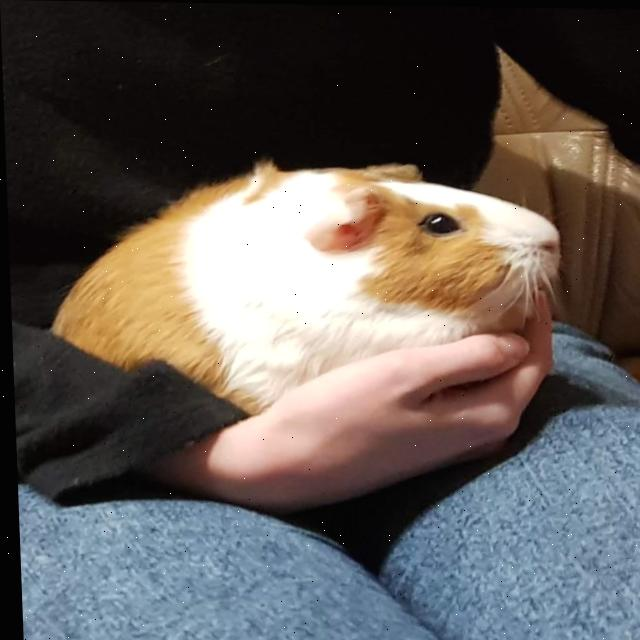guinea pig: (39, 154, 566, 418)
